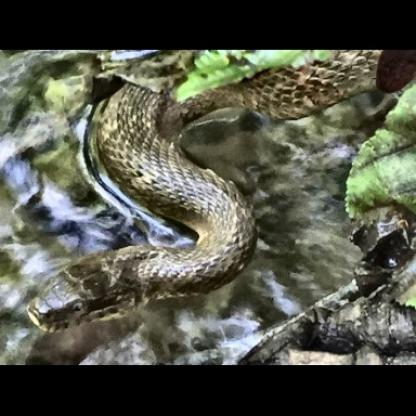Snake: (22, 65, 416, 335)
